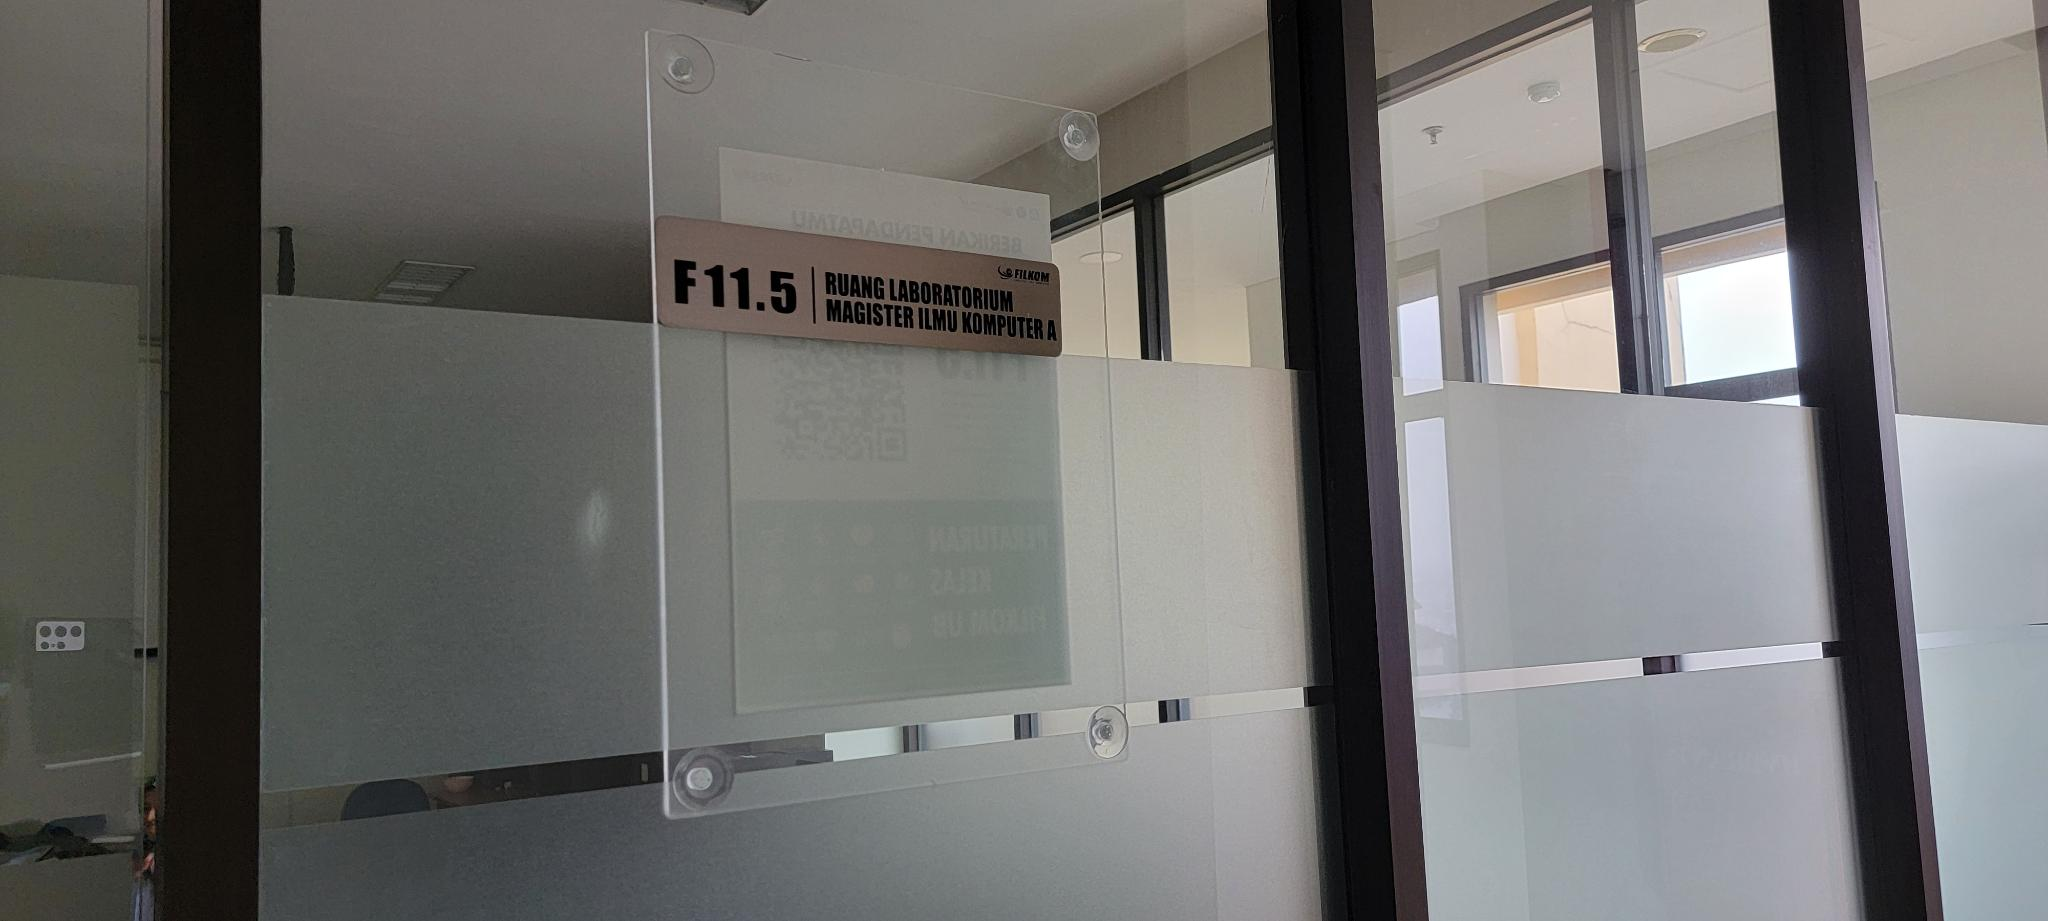plate: (654, 213, 1066, 357)
